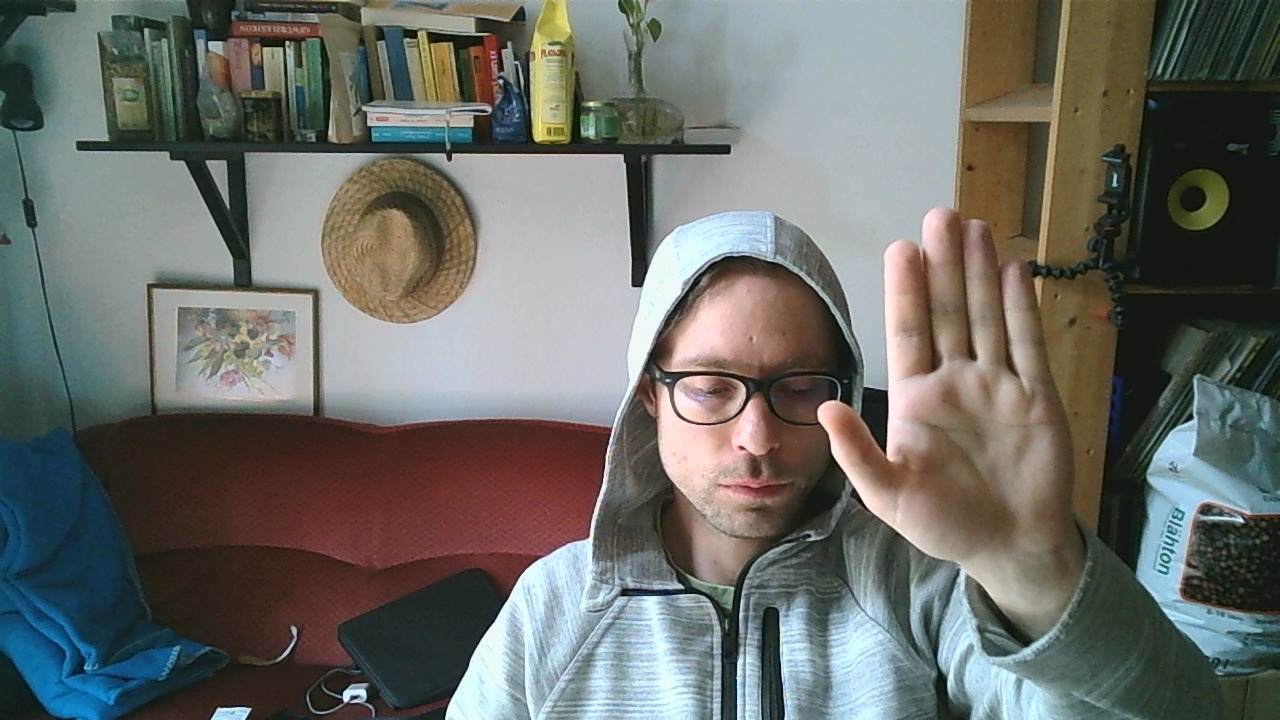hello: (814, 203, 1077, 572)
